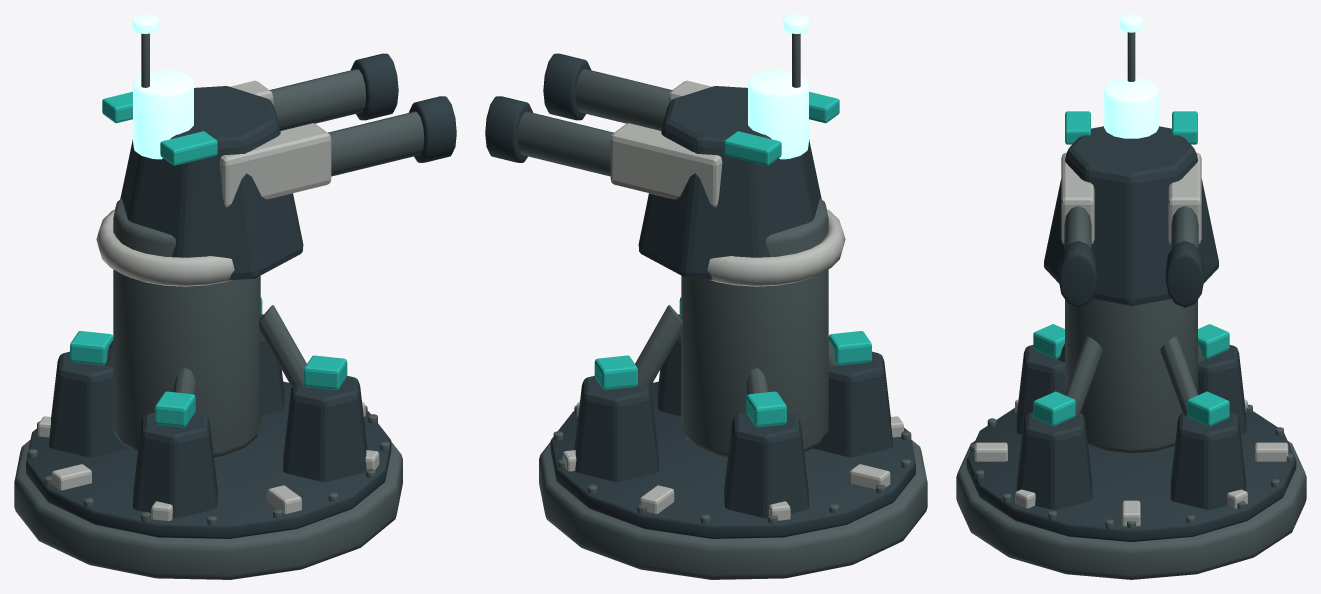
Rendered from SM_Ward.fbx.
3 renders of one model, left to right at view 1: azimuth 30°, elevation 25°; view 2: azimuth 150°, elevation 25°; view 3: azimuth 270°, elevation 25°, orthographic. The views are drawn at different scales.
Parts seen in each view (by area): view 1: SM_Ward; view 2: SM_Ward; view 3: SM_Ward.
Part boxes in pixels (<box>): SM_Ward: <box>14,14,456,579</box>; SM_Ward: <box>485,14,927,579</box>; SM_Ward: <box>956,14,1306,579</box>.
Bounding box in the file's own units: 96 × 83.17 × 120.
